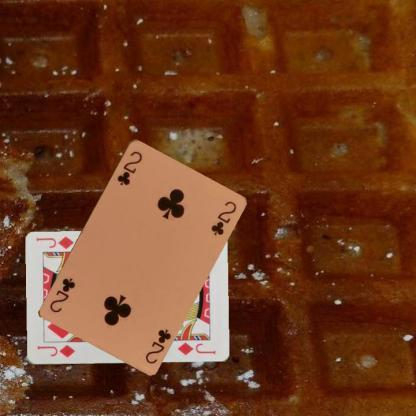2c: (142, 326, 172, 366), (115, 148, 144, 187)
Jd: (34, 342, 76, 360)
